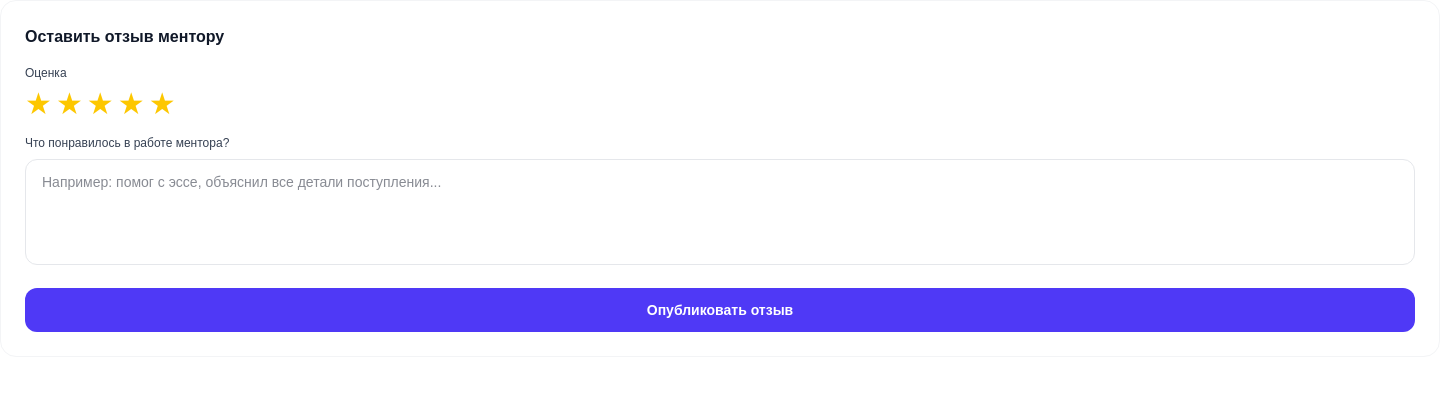
Test: ReviewForm › rejects a submission with fewer than 10 characters
Expected: the button "Опубликовать отзыв" is shown, left=25, top=288, right=1415, bottom=332
Type "too short" into the text box with placeholder "Например: помог с эссе, объяснил все детали поступления...".
click(720, 212); type("too short")  # box left=25, top=159, right=1415, bottom=265
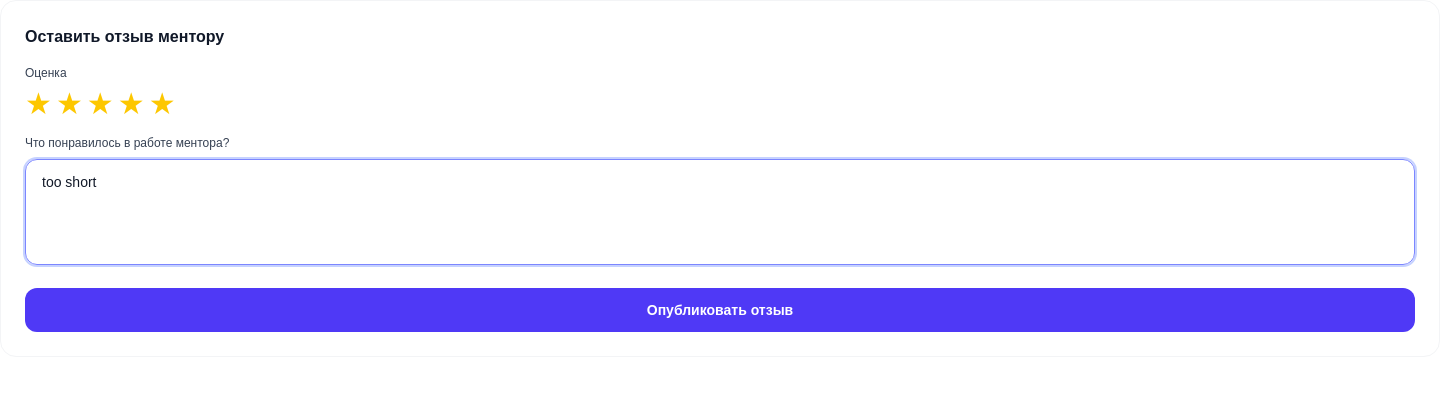
Click the button "Опубликовать отзыв".
click(720, 310)  # box left=25, top=288, right=1415, bottom=332
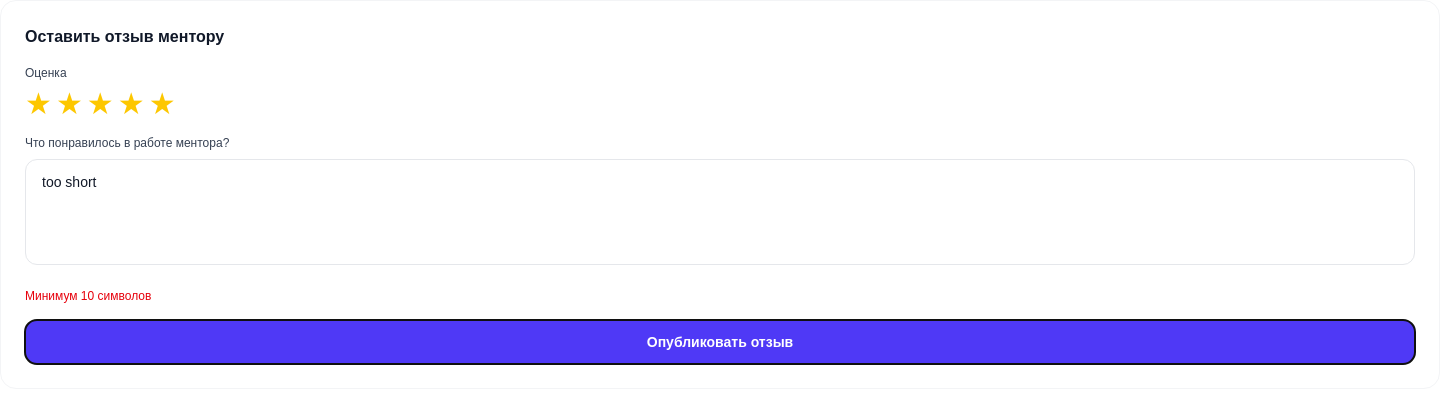
Expected: the text "Минимум 10 символов" is shown, left=25, top=289, right=151, bottom=303
